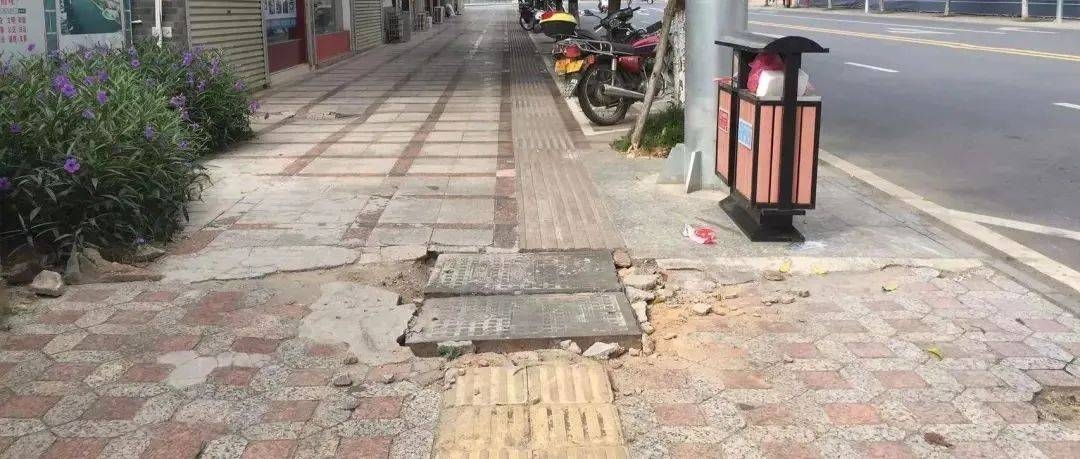circle: (356, 221, 712, 407)
